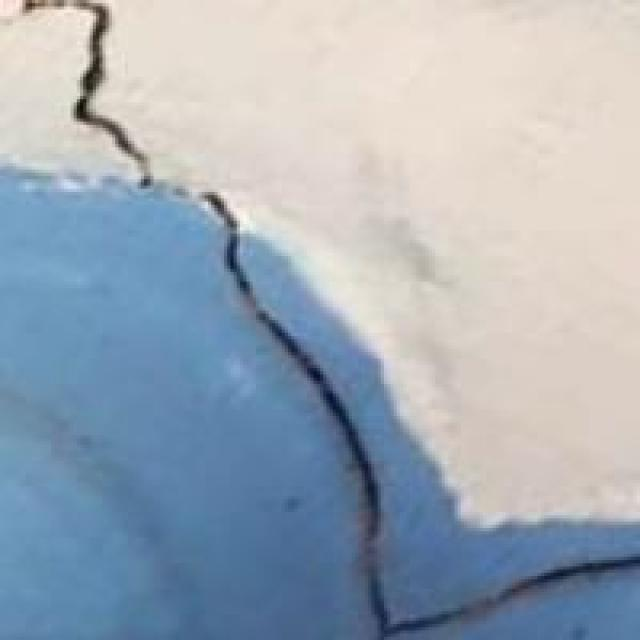Crack: (29, 0, 637, 637)
